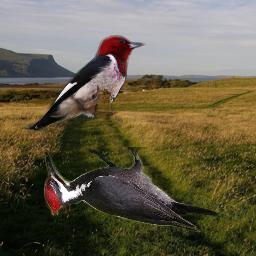Woodpecker: (44, 147, 219, 232), (22, 34, 148, 131)
